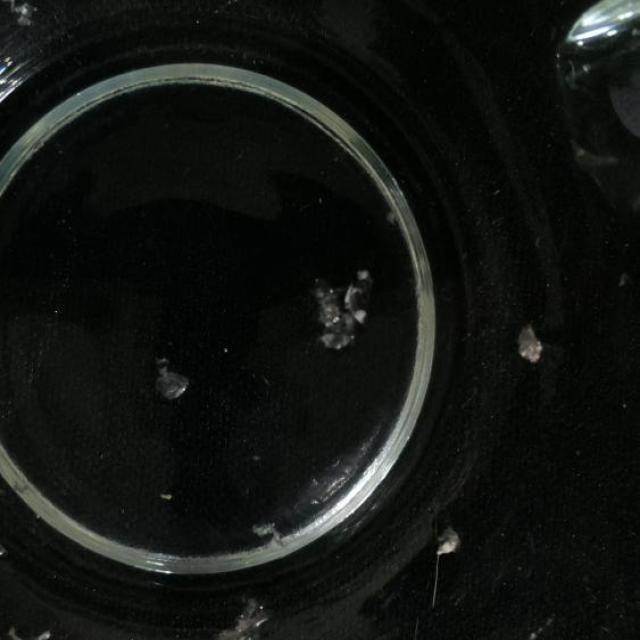fiber: (308, 260, 376, 353), (146, 348, 195, 406), (215, 591, 271, 636), (512, 315, 547, 367), (250, 512, 286, 554), (432, 524, 466, 564), (156, 486, 176, 506)
